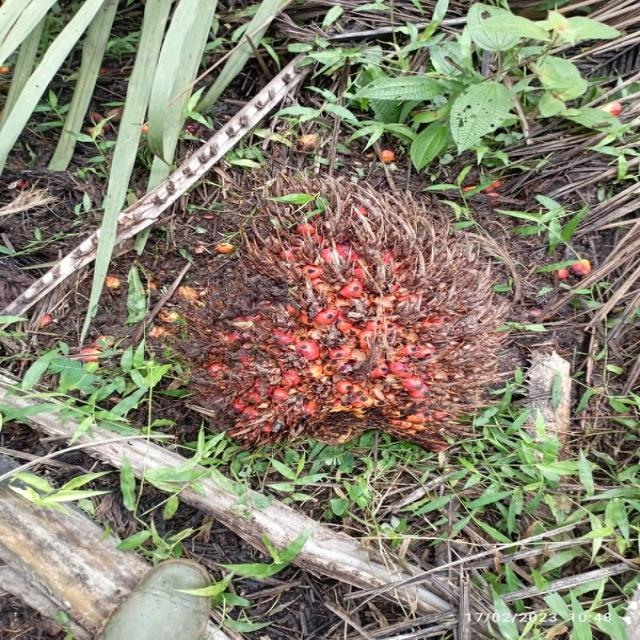fraksi 4: (156, 157, 540, 474)
